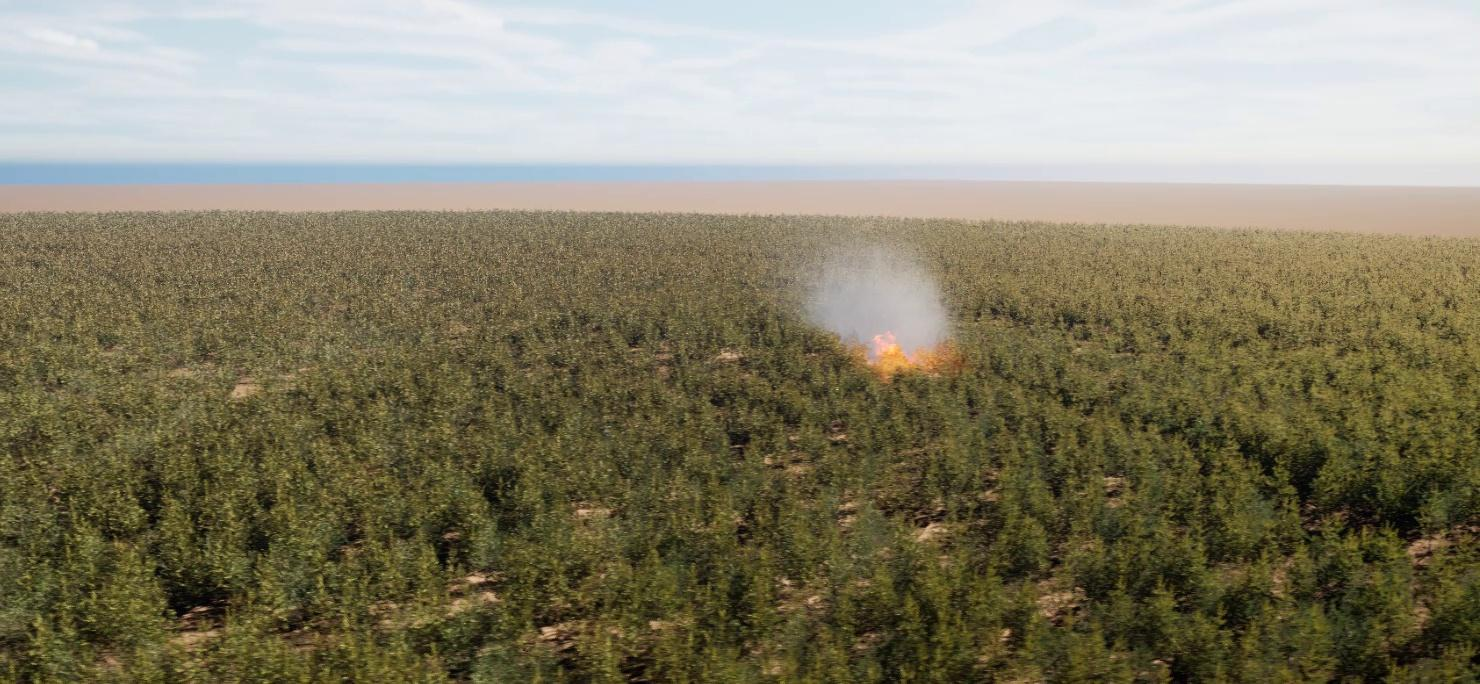fire: (863, 327, 951, 373)
smoke: (777, 227, 962, 362)
